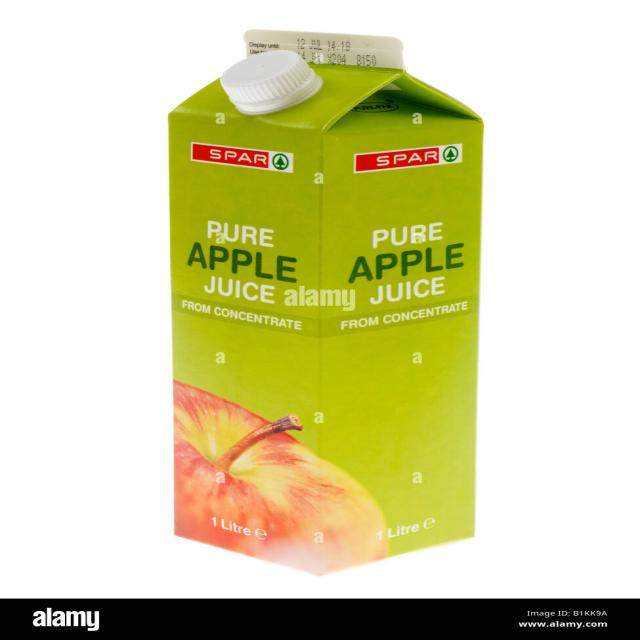non_white_jug: (147, 14, 481, 580)
